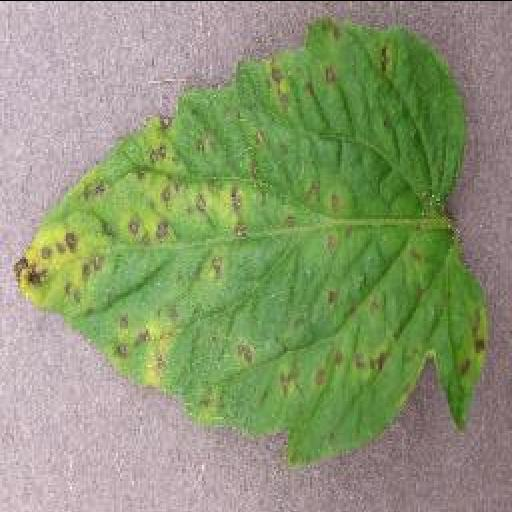disease_tomato: (16, 16, 486, 460)
